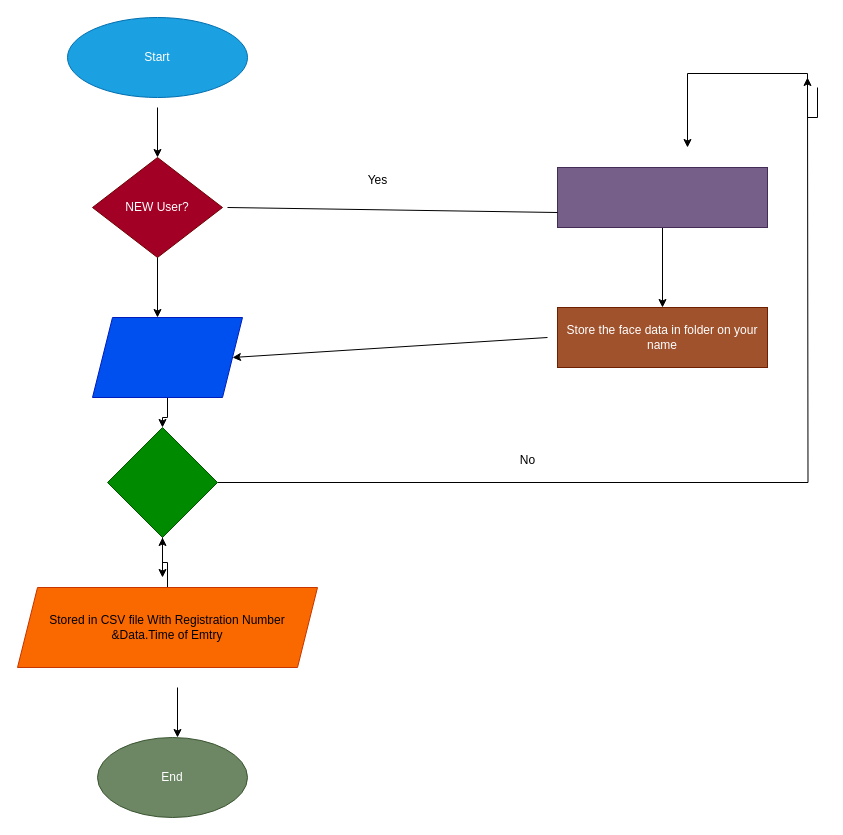
Some shapes in this 843 by 835 pixel diagram are drawn without their labels. The centre of each missing label's shape, as x and y in pixels:
"Face Recognized" belongs at point 162,482.
"Give Your Photograph" belongs at point 662,197.
"Recognize the face" belongs at point 167,357.
